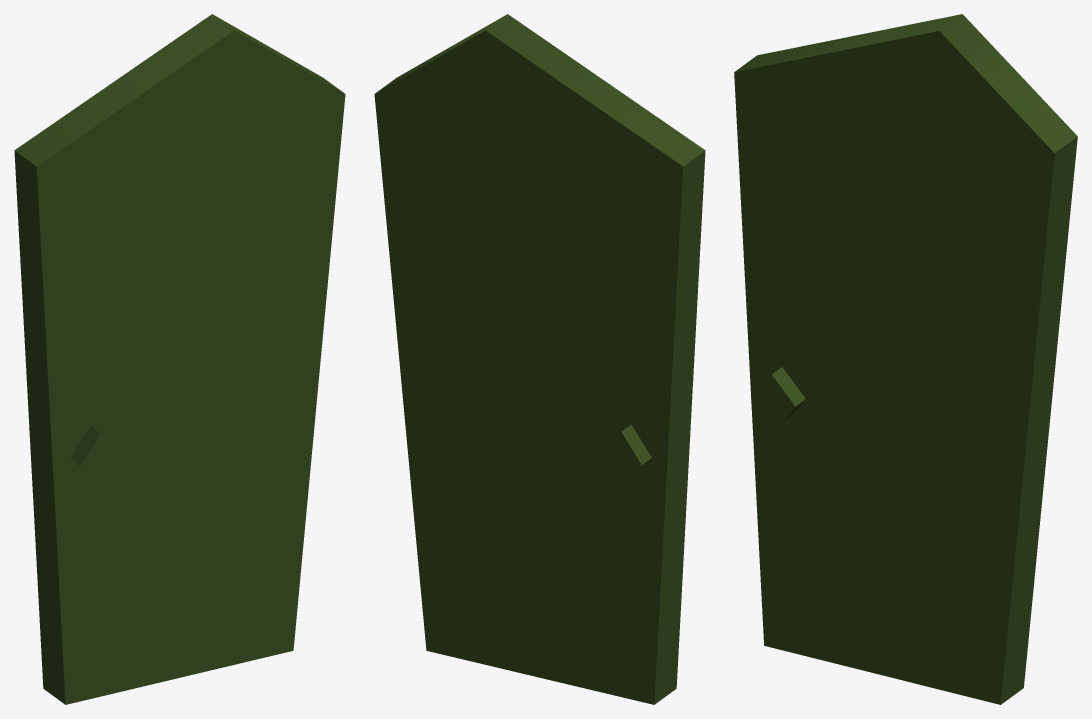
The model's file is froneDoor_mdl.fbx.
3 renders of one model, left to right at view 1: azimuth 30°, elevation 25°; view 2: azimuth 150°, elevation 25°; view 3: azimuth 330°, elevation 25°, orthographic. The views are drawn at different scales.
Visible parts, largest first — view 1: frontDoor_GEO; view 2: frontDoor_GEO; view 3: frontDoor_GEO.
Part boxes in pixels (<box>): frontDoor_GEO: <box>14,14,345,704</box>; frontDoor_GEO: <box>374,14,705,704</box>; frontDoor_GEO: <box>734,14,1077,704</box>.
Bounding box in the file's own units: 419 × 824 × 113.
